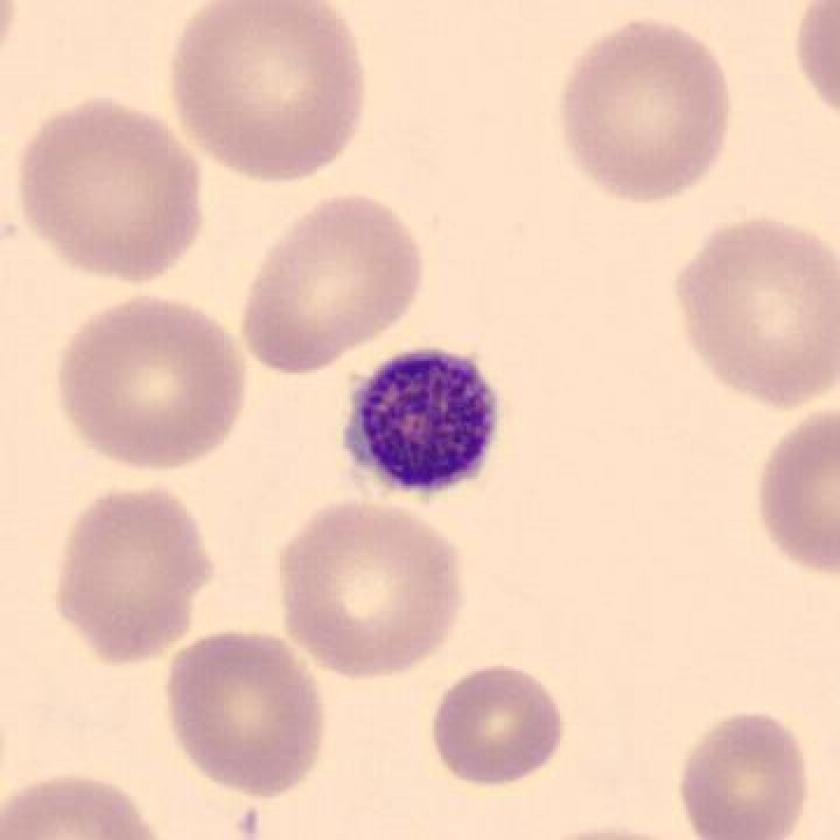platelets: (342, 344, 505, 510)
